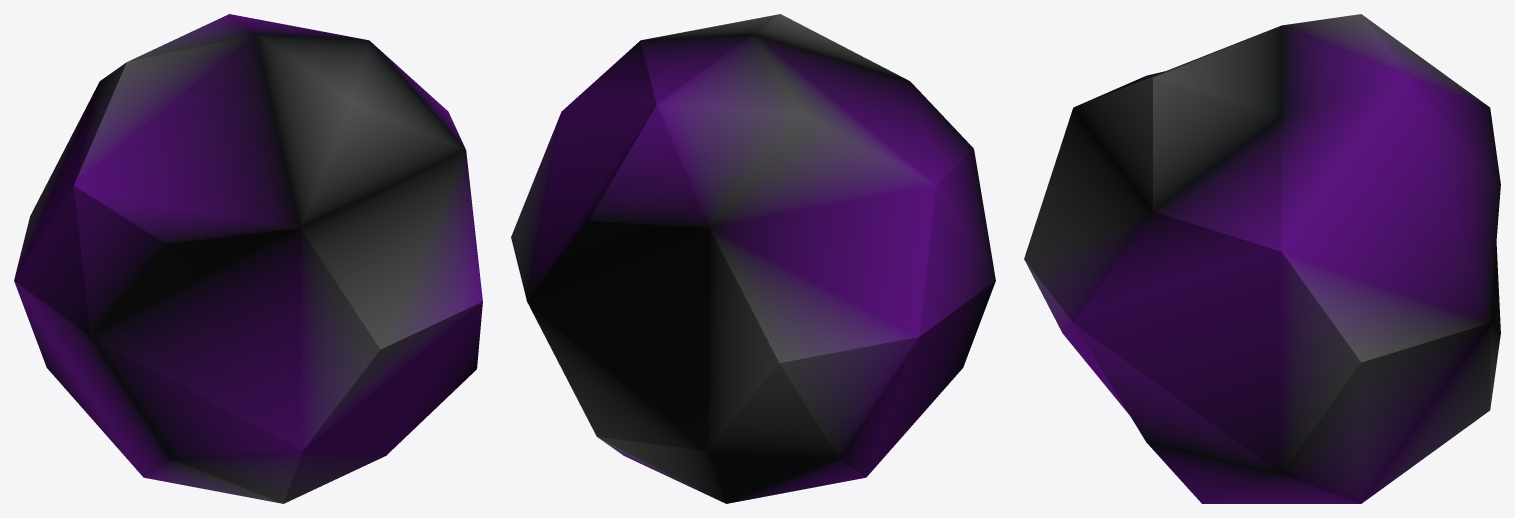
Rendered from Icosphere_bigger_5&6_valencies.obj.
3 views of the same model, side by side, from view 1: azimuth 30°, elevation 25°; view 2: azimuth 150°, elevation 25°; view 3: azimuth 270°, elevation 25° (orthographic). The views are drawn at different scales.
Bounding box in the file's own units: 1.9 × 1.85 × 1.85.
